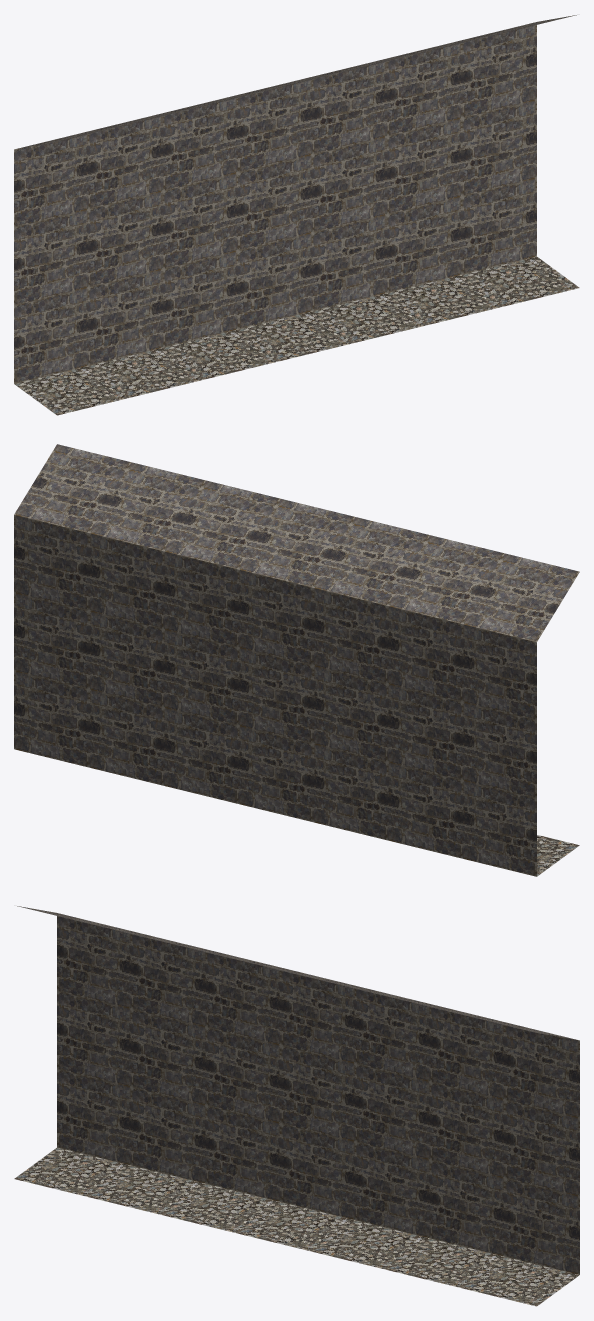
File: Wall InvertedNormal.fbx
The picture shows the model from 3 angles, top to bottom: view 1: azimuth 30°, elevation 25°; view 2: azimuth 150°, elevation 25°; view 3: azimuth 330°, elevation 25°; orthographic projection.
Parts seen in each view (by area): view 1: Wall Invert Normal; view 2: Wall Invert Normal; view 3: Wall Invert Normal.
Boxes of the visible parts, left/top/right/bottom form: Wall Invert Normal: left=14, top=15, right=579, bottom=415; Wall Invert Normal: left=14, top=444, right=579, bottom=876; Wall Invert Normal: left=14, top=906, right=579, bottom=1306.
Size of the model in its own units: 700 by 350 by 100.
